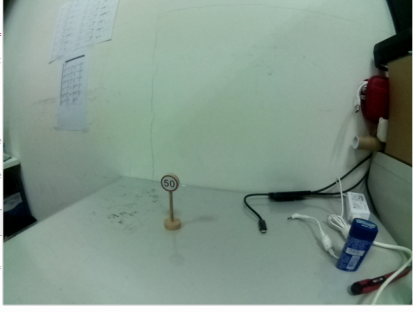Speed50: (157, 172, 181, 193)
